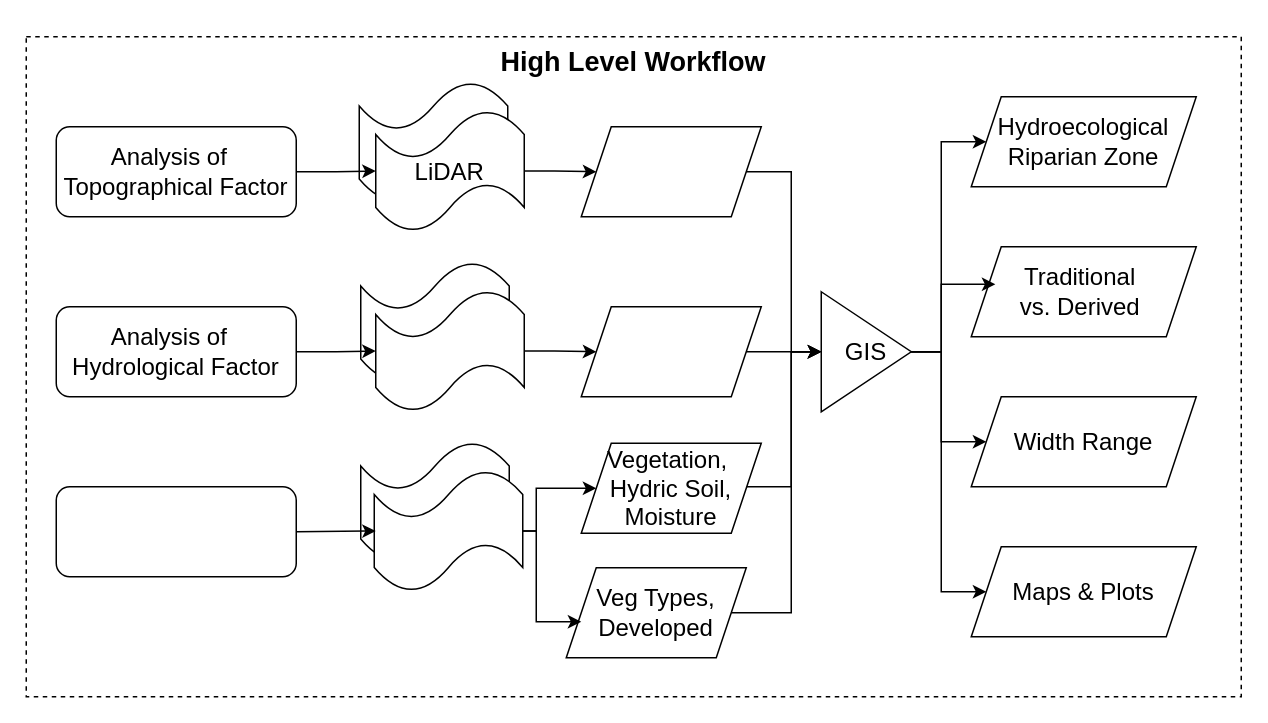
This 1268x723 diagram has some shape labels left out. Here are the shapes that lost their labels. From the top down, the centre of each, then its label:
At [670,171]: "Terrain Depressions".
At [449,350]: "Sentinel-1".
At [670,351]: "Seasonal Flooding".
At [175,531]: "Analysis of Ecological Factor".
At [448,530]: "Sentinel-2".
